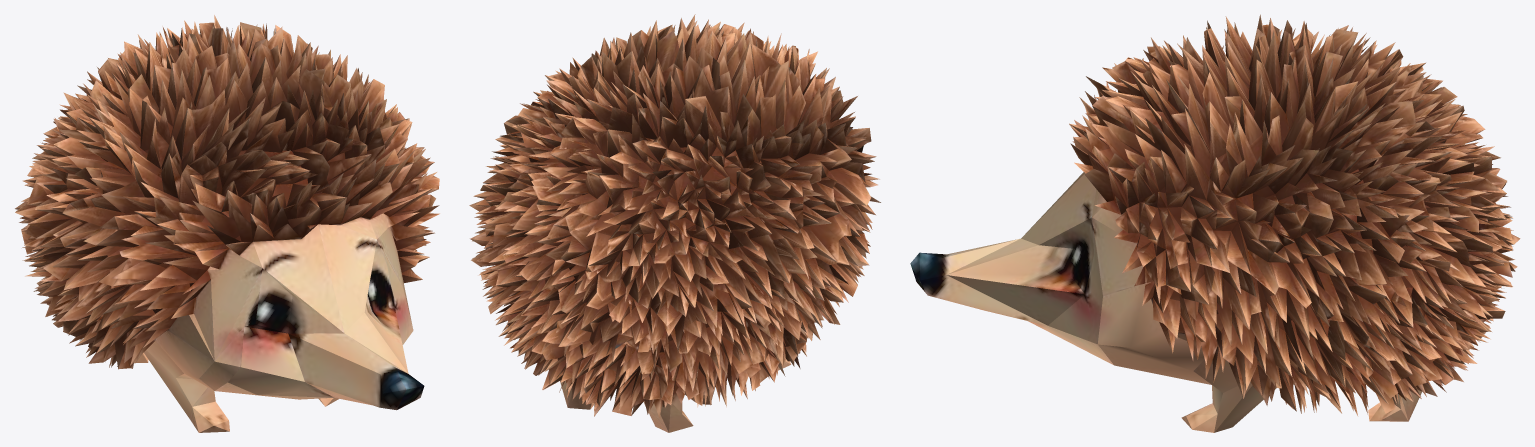
File: hedgehog.glb
The picture shows the model from 3 angles, left to right: view 1: azimuth 30°, elevation 25°; view 2: azimuth 150°, elevation 25°; view 3: azimuth 270°, elevation 25°; orthographic projection. The views are drawn at different scales.
Size of the model in its own units: 1.36 by 1.25 by 1.9.
Materials: 1 (1 with a texture image).
